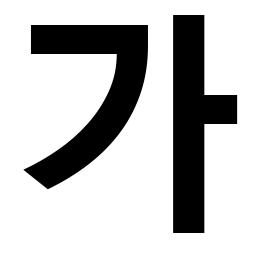Gaji: (159, 83, 224, 142)
